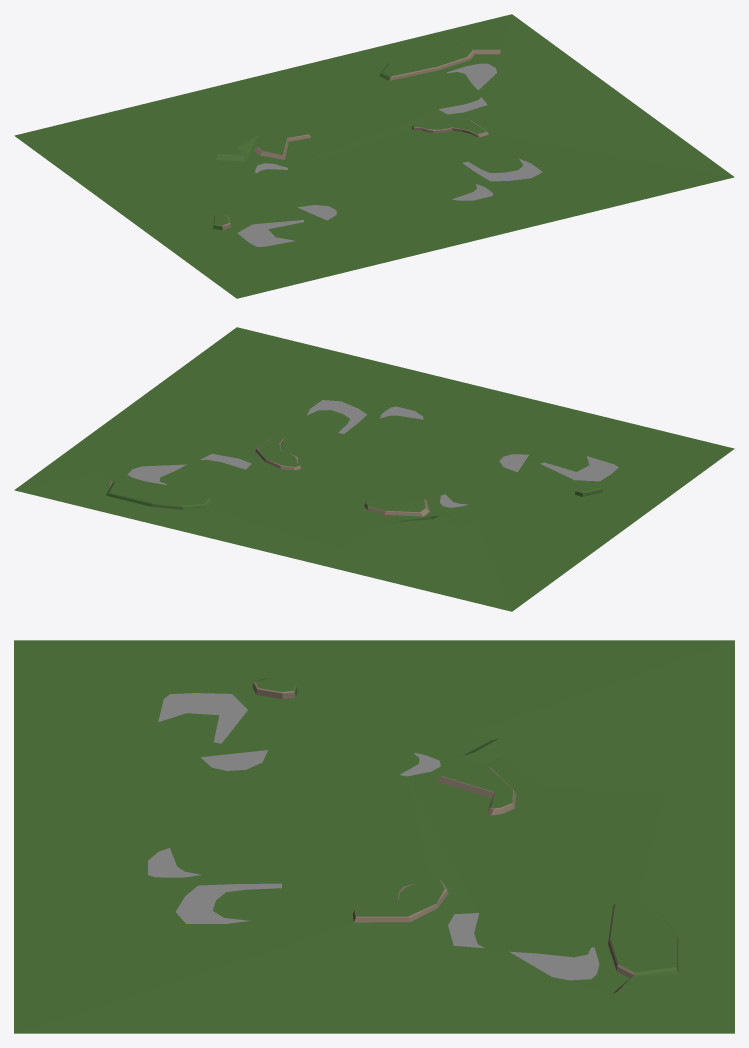
File: sirkuit1-land.glb
3 views of the same model, one above another, from view 1: azimuth 30°, elevation 25°; view 2: azimuth 150°, elevation 25°; view 3: azimuth 270°, elevation 25° (orthographic). The views are drawn at different scales.
Visible parts, largest first — view 1: Plane; view 2: Plane; view 3: Plane.
Boxes of the visible parts, box(x1,y1,x2,y2) form: Plane: box(14, 14, 734, 298); Plane: box(14, 327, 734, 611); Plane: box(14, 640, 734, 1033).
Size of the model in its own units: 2775 by 20.56 by 2152.
